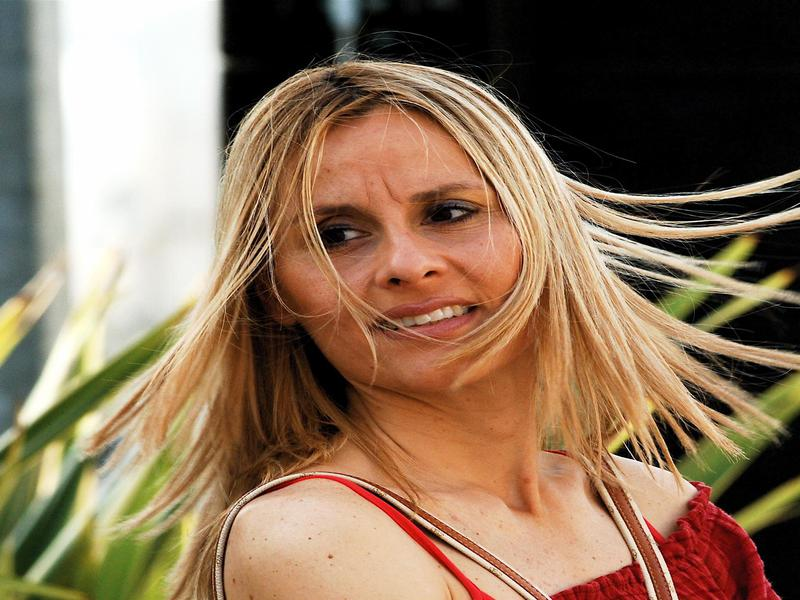person: (124, 55, 777, 600)
